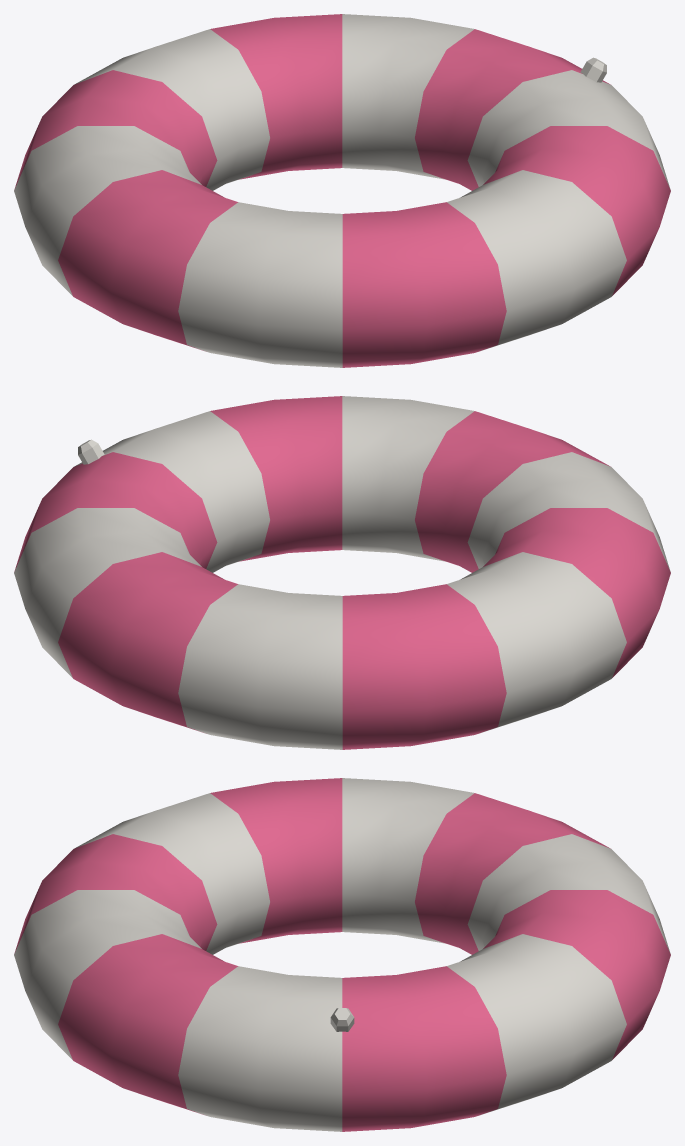
File: float_ring.glb
The picture shows the model from 3 angles, top to bottom: view 1: azimuth 30°, elevation 25°; view 2: azimuth 150°, elevation 25°; view 3: azimuth 270°, elevation 25°; orthographic projection.
Parts seen in each view (by area): view 1: FloatRing; view 2: FloatRing; view 3: FloatRing.
Boxes of the visible parts, x1,y1,x2,y2 form: FloatRing: (14,14,670,367); FloatRing: (14,396,670,749); FloatRing: (14,778,670,1131).
Bounding box in the file's own units: 1 × 0.2272 × 1.
